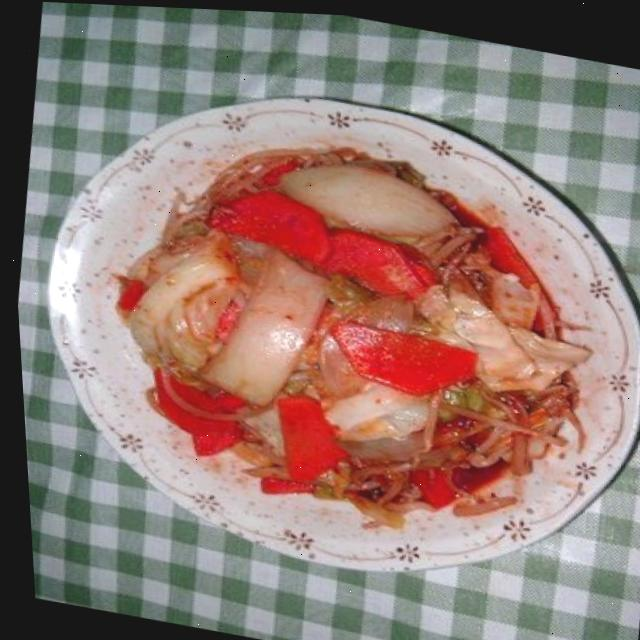蔬菜料理: (85, 107, 617, 575)
